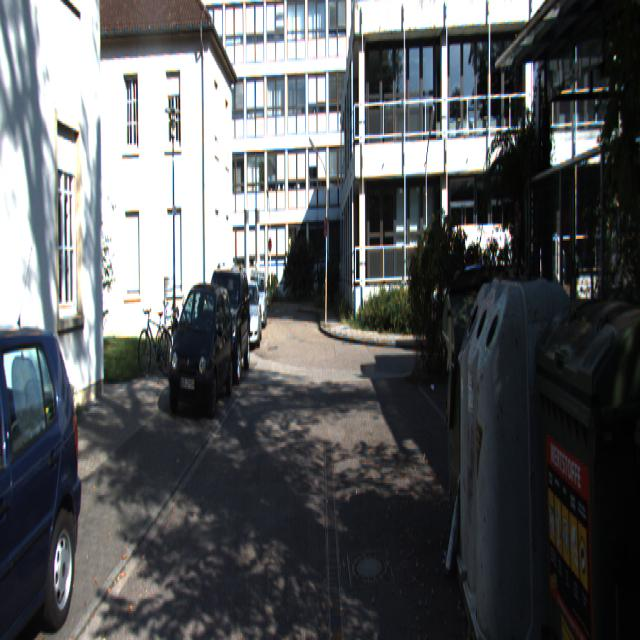Car: (0, 316, 87, 638), (165, 281, 235, 419), (199, 255, 252, 382), (234, 278, 262, 348)
